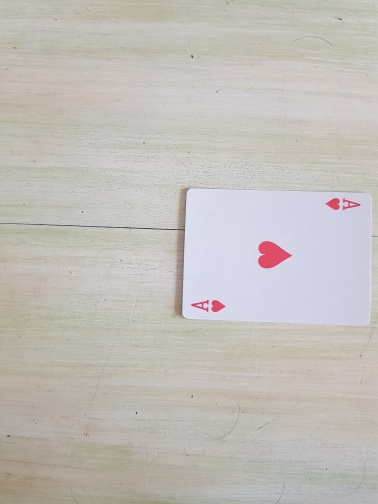ace: (180, 188, 374, 326)
